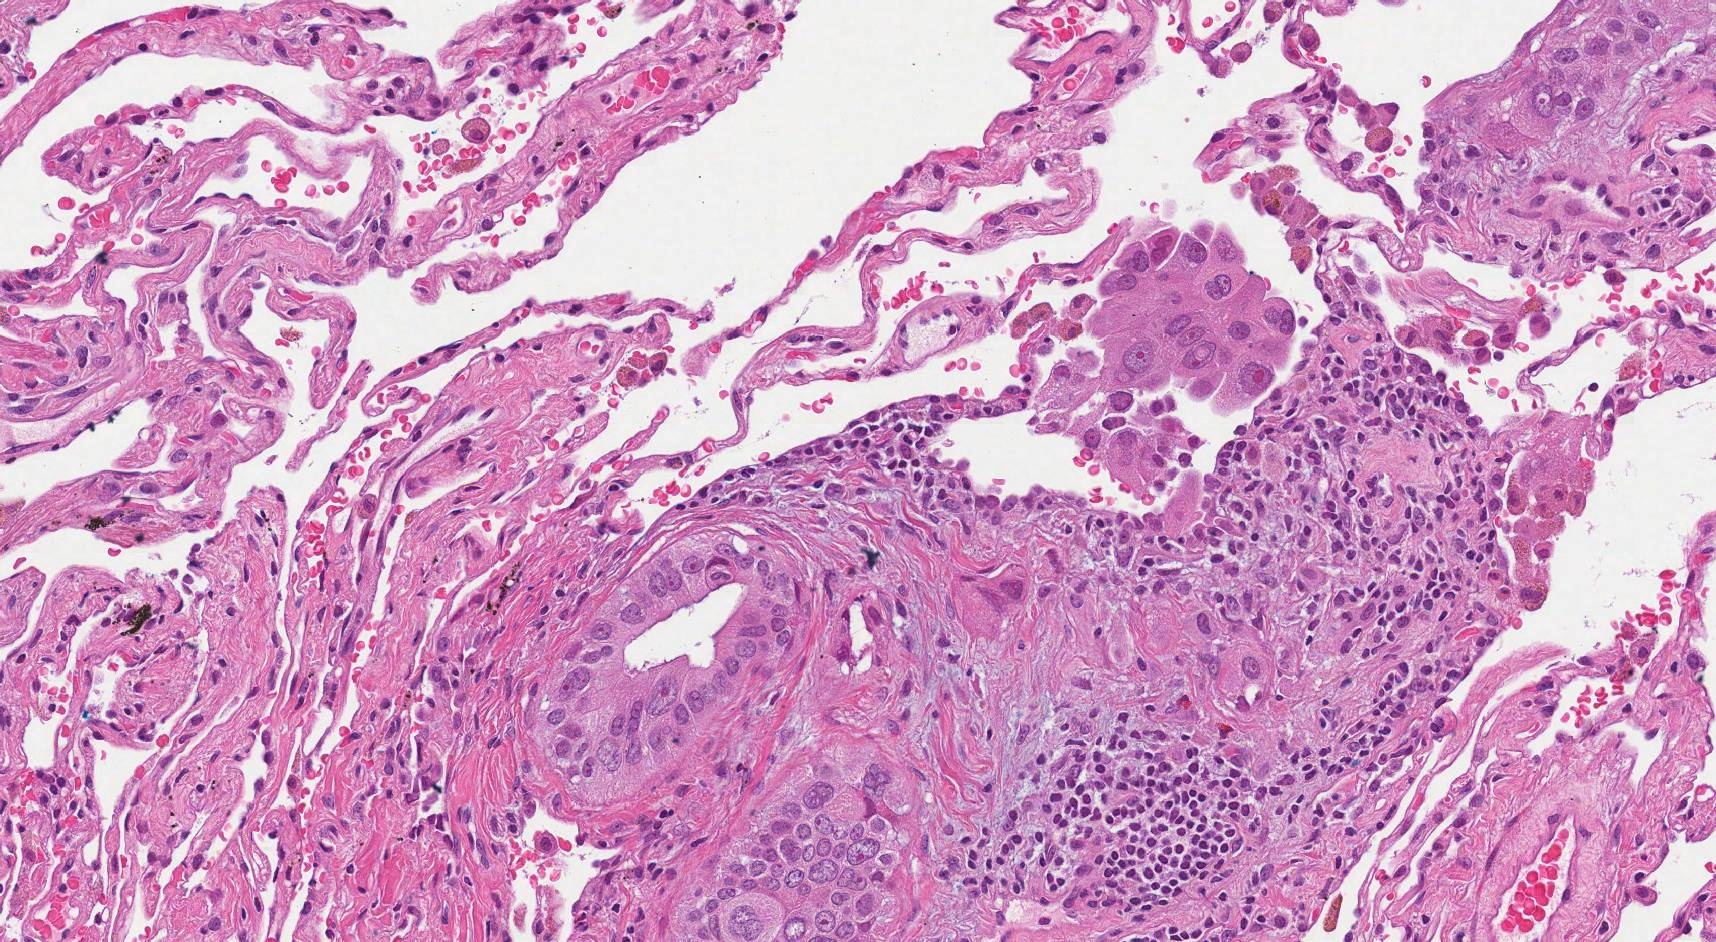stas: (1033, 223, 1297, 496)
